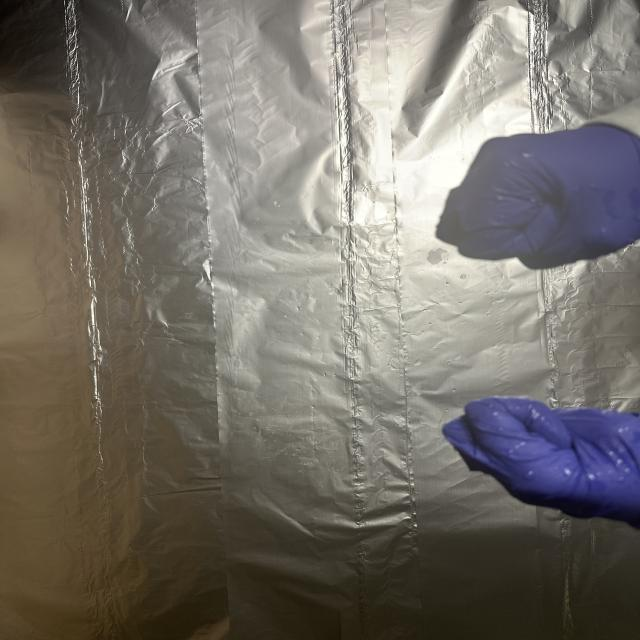gloves_contaminated: (436, 124, 640, 269), (443, 398, 640, 528)
